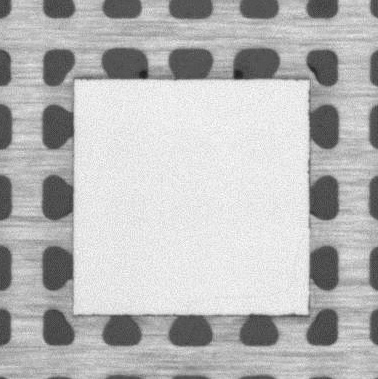DIE_CRACK: (213, 234, 308, 301)
